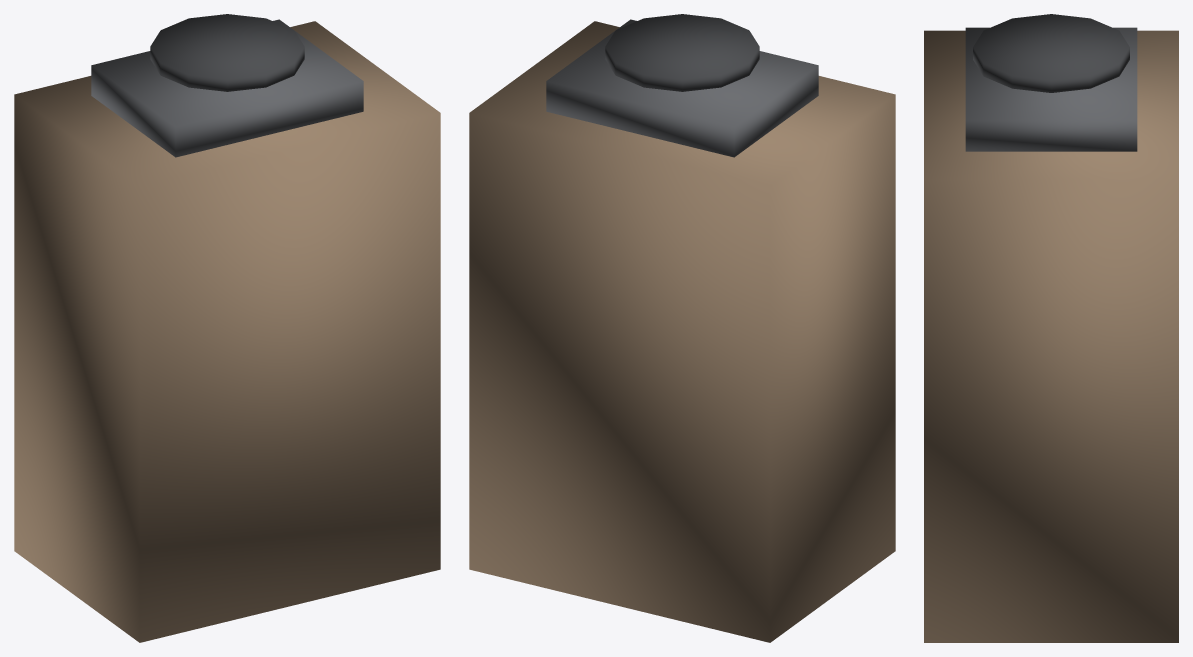
Rendered from record_store_listening_station__tall.glb.
3 views of the same model, side by side, from view 1: azimuth 30°, elevation 25°; view 2: azimuth 150°, elevation 25°; view 3: azimuth 270°, elevation 25° (orthographic).
Parts seen in each view (by area): view 1: world; view 2: world; view 3: world.
Boxes of the visible parts, x1,y1,x2,y2 form: world: [14, 14, 440, 642]; world: [469, 14, 895, 642]; world: [924, 14, 1178, 642].
Size of the model in its own units: 0.72 by 1.17 by 0.52.
